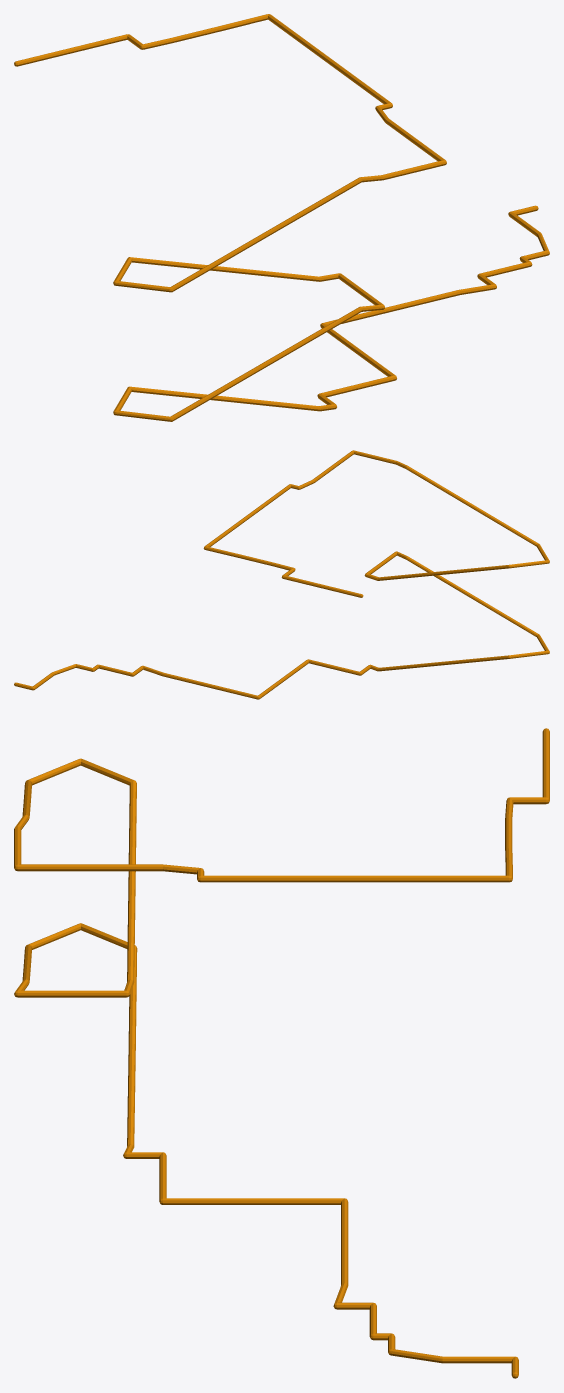
The picture shows the model from 3 angles, top to bottom: view 1: azimuth 30°, elevation 25°; view 2: azimuth 150°, elevation 25°; view 3: azimuth 270°, elevation 25°; orthographic projection. The views are drawn at different scales.
Bounding box in the file's own units: 2406 × 1020 × 1475.
